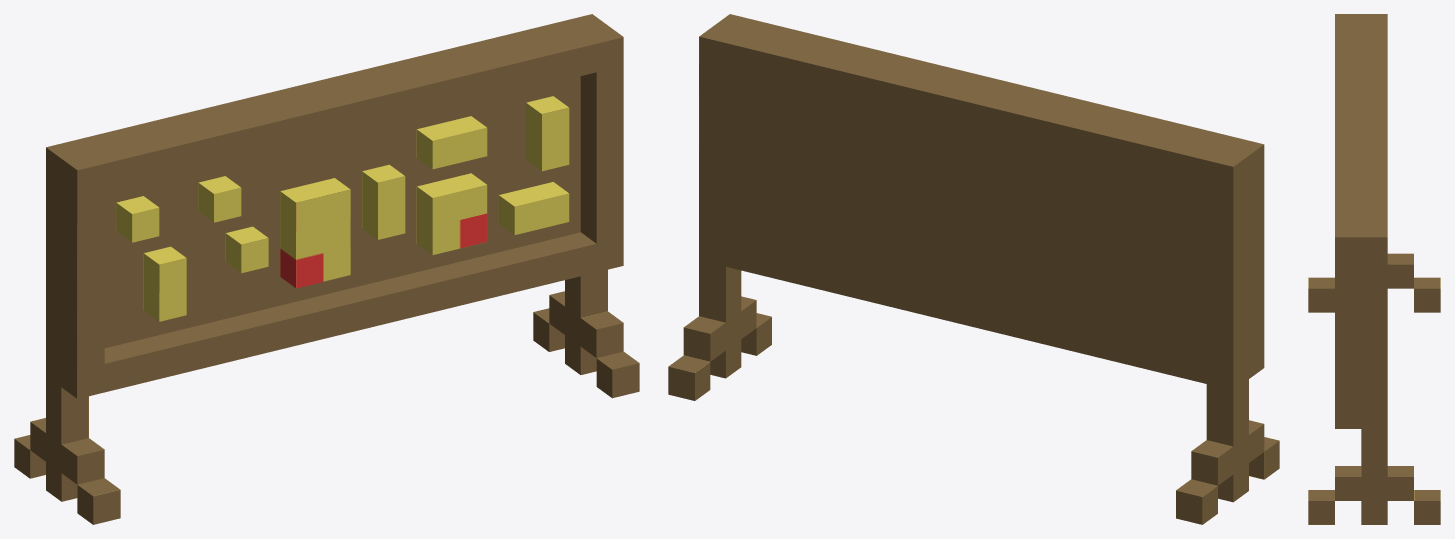
The model's file is Letters.obj.
3 renders of one model, left to right at view 1: azimuth 30°, elevation 25°; view 2: azimuth 150°, elevation 25°; view 3: azimuth 270°, elevation 25°, orthographic. The views are drawn at different scales.
Visible parts, largest first — view 1: Letters_Medieval_Assets-20.001; view 2: Letters_Medieval_Assets-20.001; view 3: Letters_Medieval_Assets-20.001.
Part boxes in pixels (bbox=[...]): Letters_Medieval_Assets-20.001: bbox=[14, 14, 639, 524]; Letters_Medieval_Assets-20.001: bbox=[668, 14, 1279, 524]; Letters_Medieval_Assets-20.001: bbox=[1308, 14, 1440, 524].
Bounding box in the file's own units: 2 × 1.2 × 0.5.
Materials: 1 (1 with a texture image).
